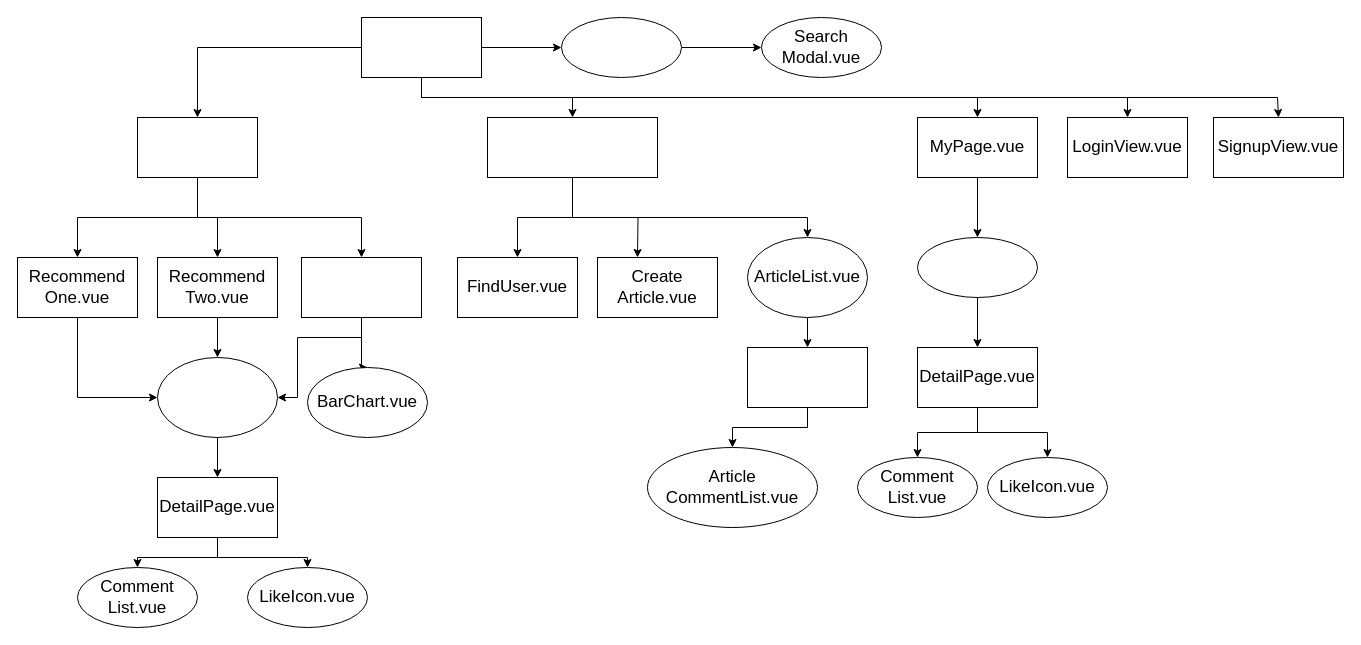
The diagram is 1361 pixels wide and 645 high, and some of its shapes have lost their labels. The shapes that lost their labels are listed below. From the top down, each one's centre as x and y in pixels, then its label:
(x=421, y=47): App.vue
(x=621, y=47): nav
(x=197, y=147): HomeView.vue
(x=572, y=147): CommunityView.vue
(x=361, y=287): Recommend Three.vue
(x=977, y=267): PostCare.vue
(x=217, y=397): Poster Card.vue
(x=807, y=377): Article Page.vue
